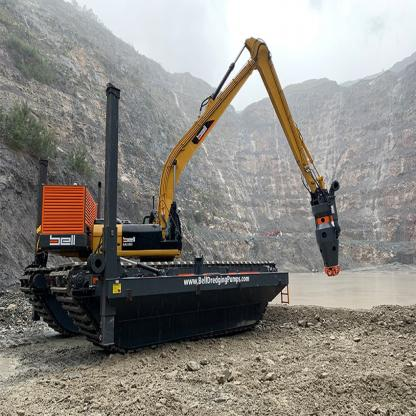excavator: (27, 32, 344, 368)
